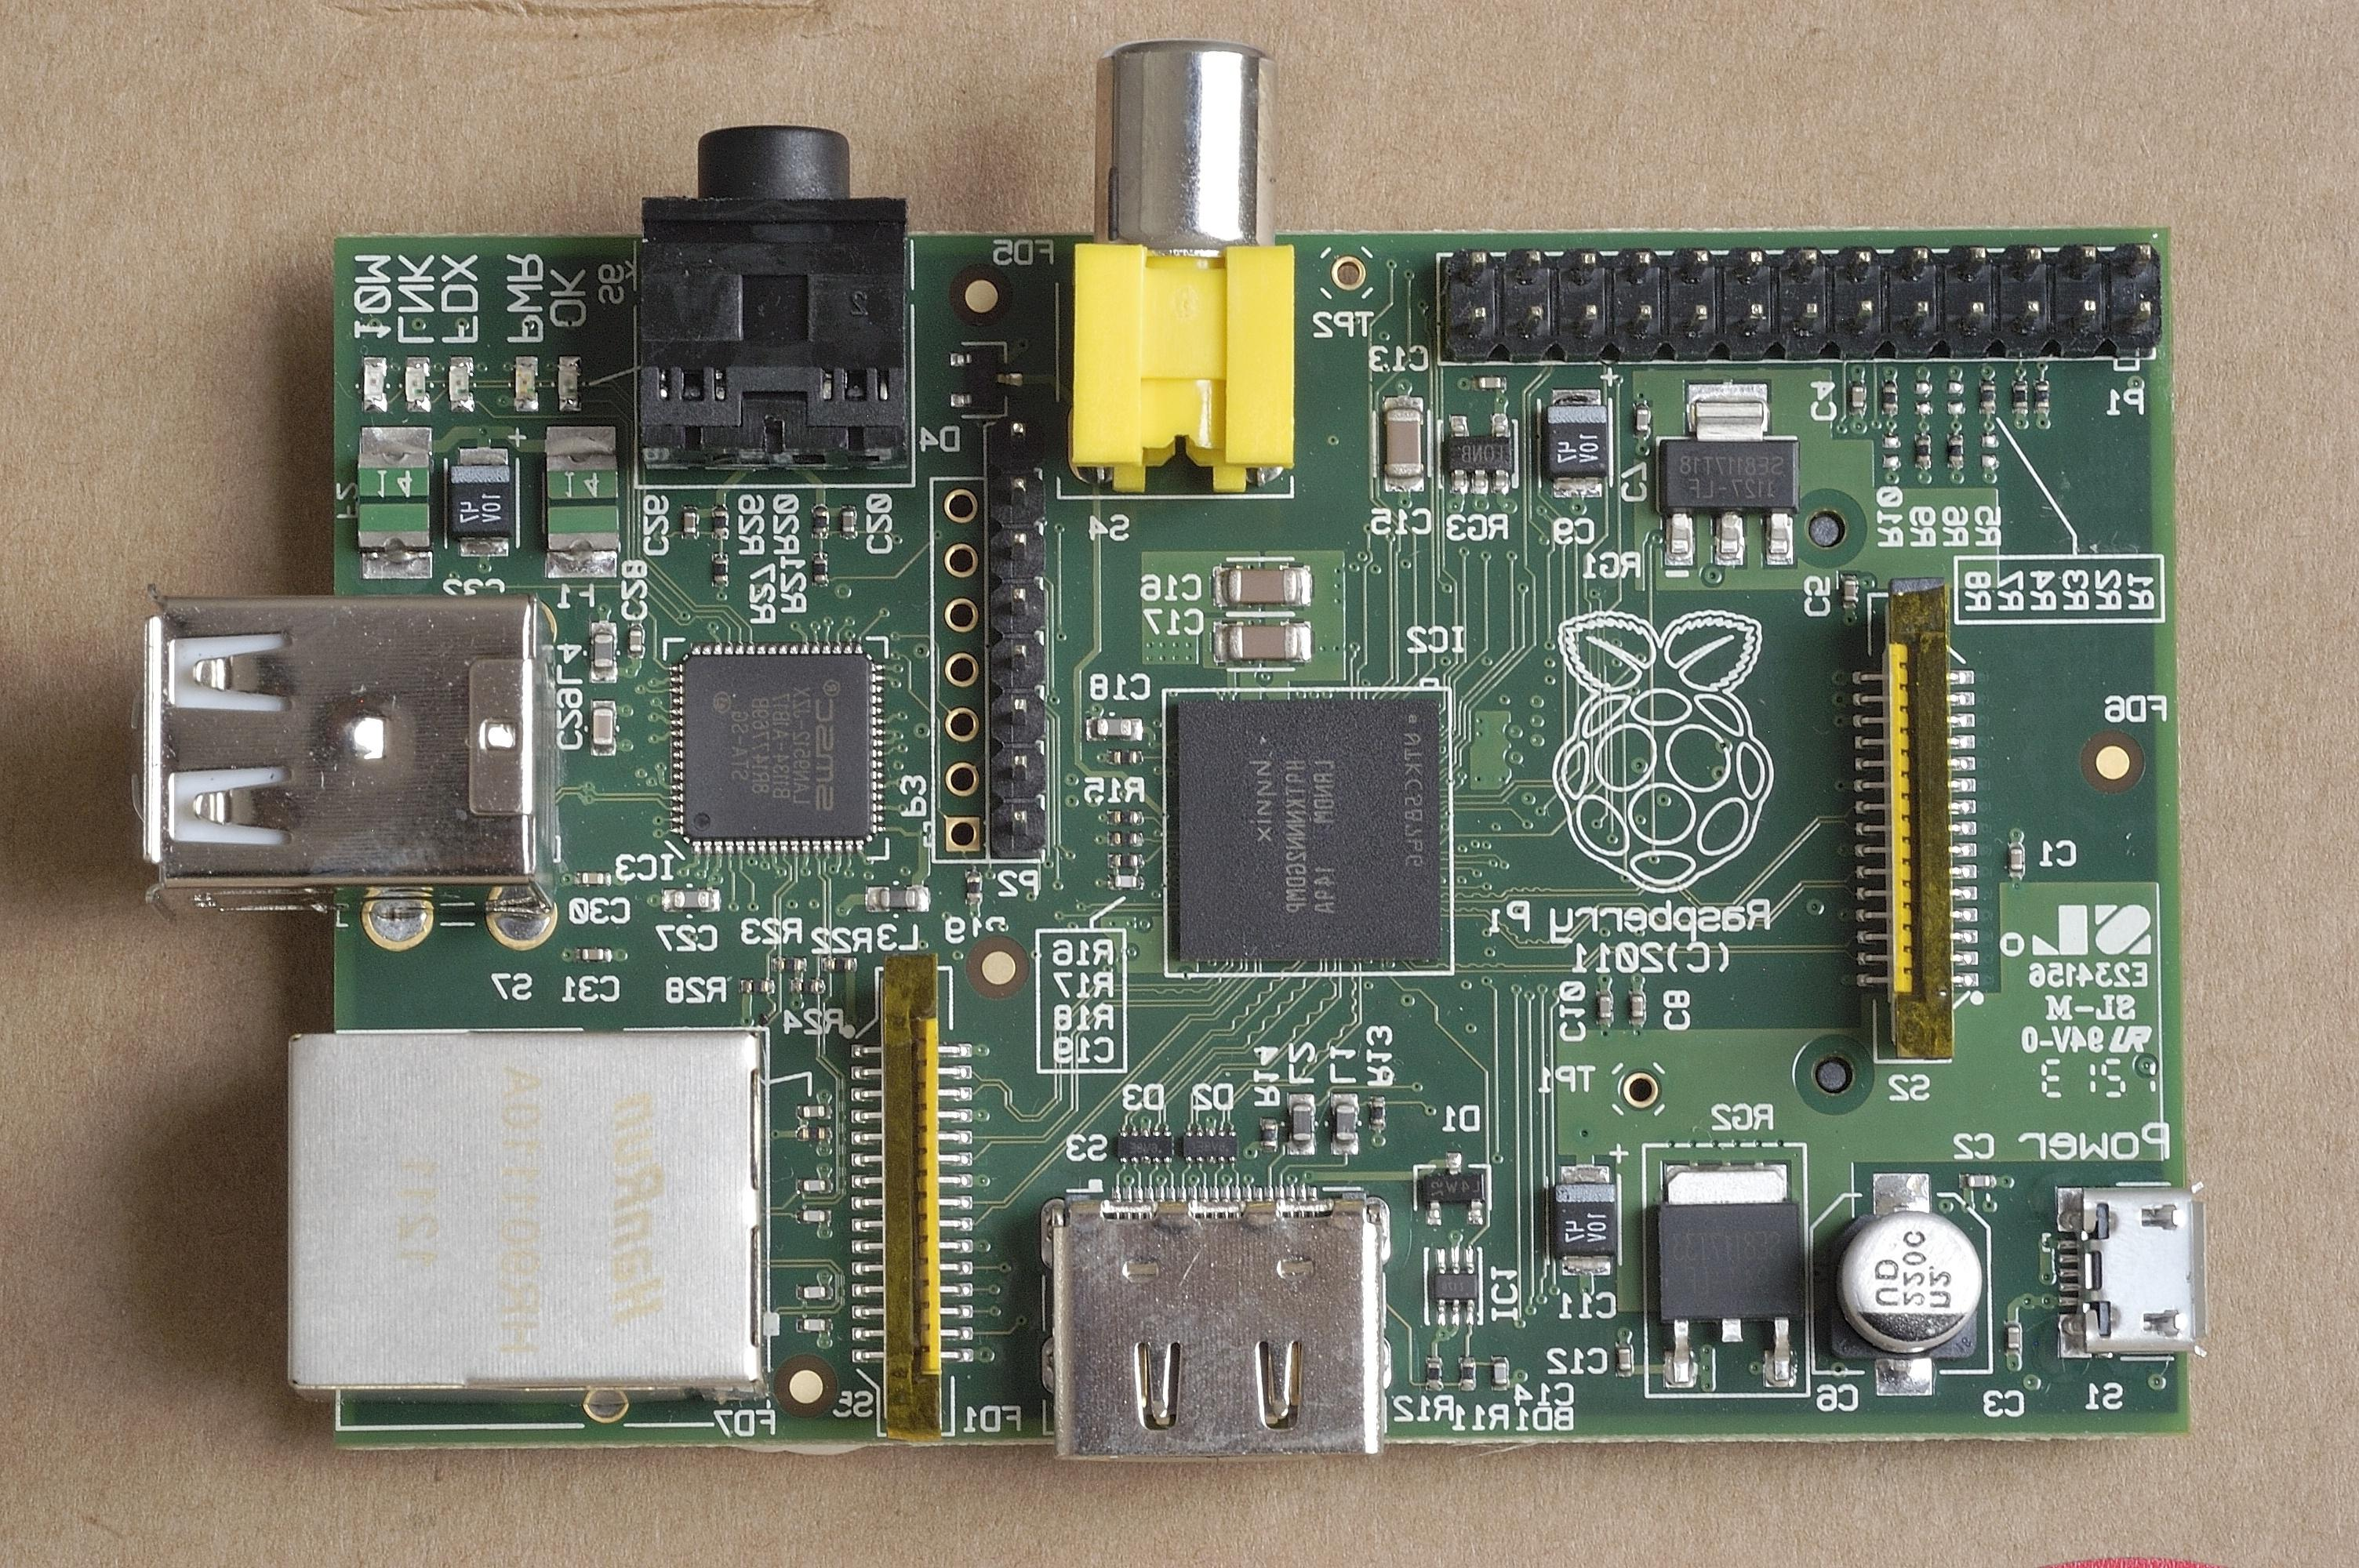audiojack: (1069, 44, 1311, 488)
bchi: (1155, 691, 1463, 976)
ethernet: (280, 1032, 763, 1400)
gpio: (1437, 245, 2154, 367)
